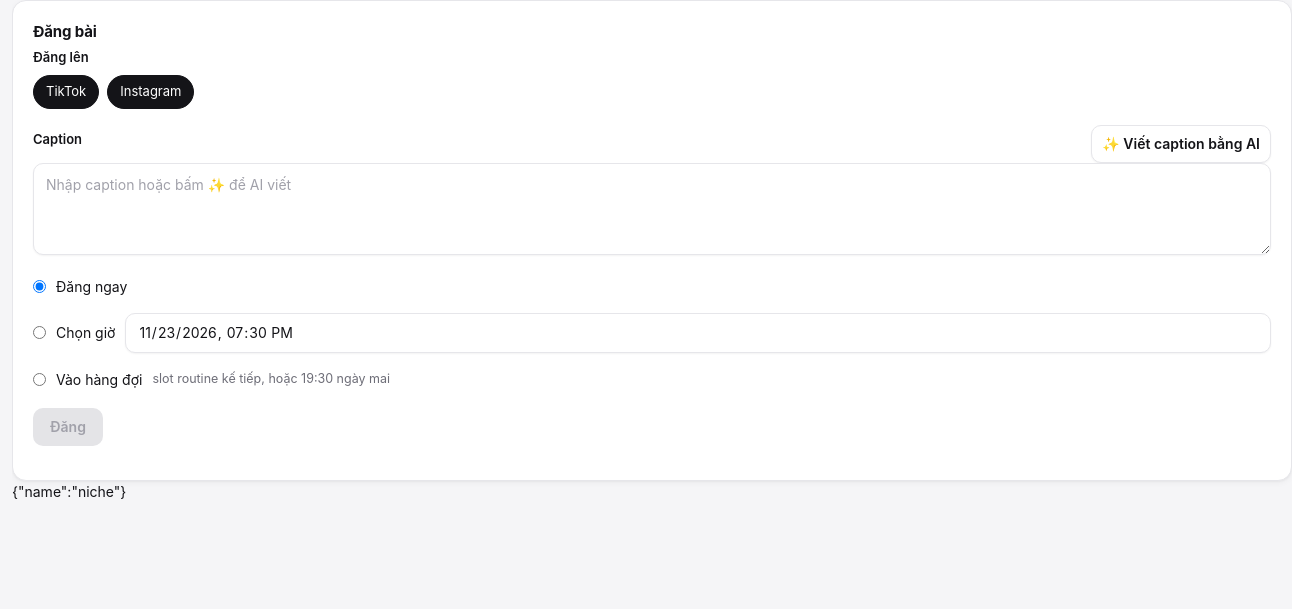
Test case: SOCIAL_LIMIT shows the limit message
Click the button "✨ Viết caption bằng AI" at (1181, 144), box [1091,124,1271,162]
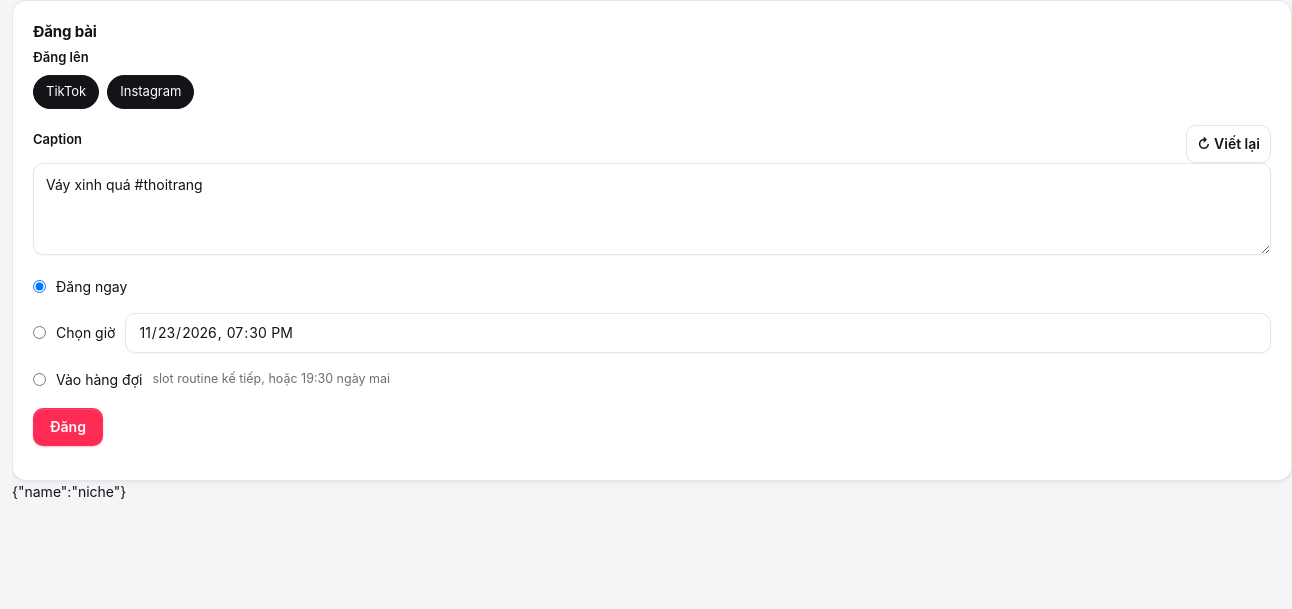
Expected: the text box showing "Váy xinh quá #thoitrang" is shown, [33,162,1271,254]
Click the button "Đăng" at (68, 426), box [33,408,103,446]
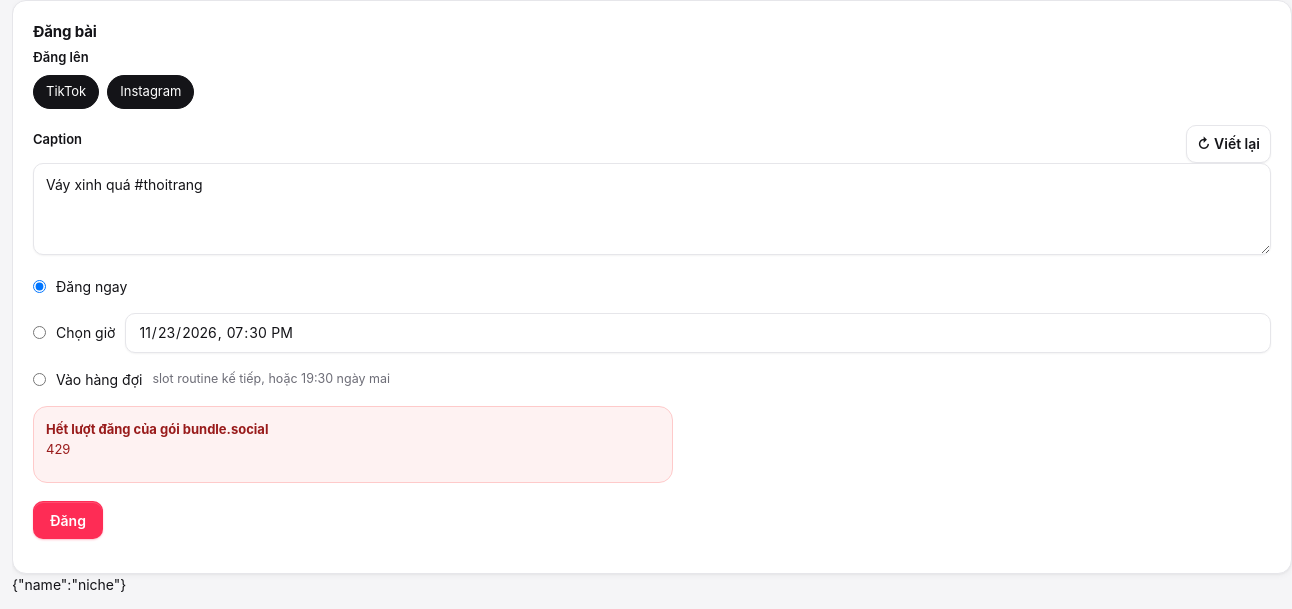
Expected: the text "Hết lượt đăng của gói bundle.social" is shown, [46,420,268,436]
